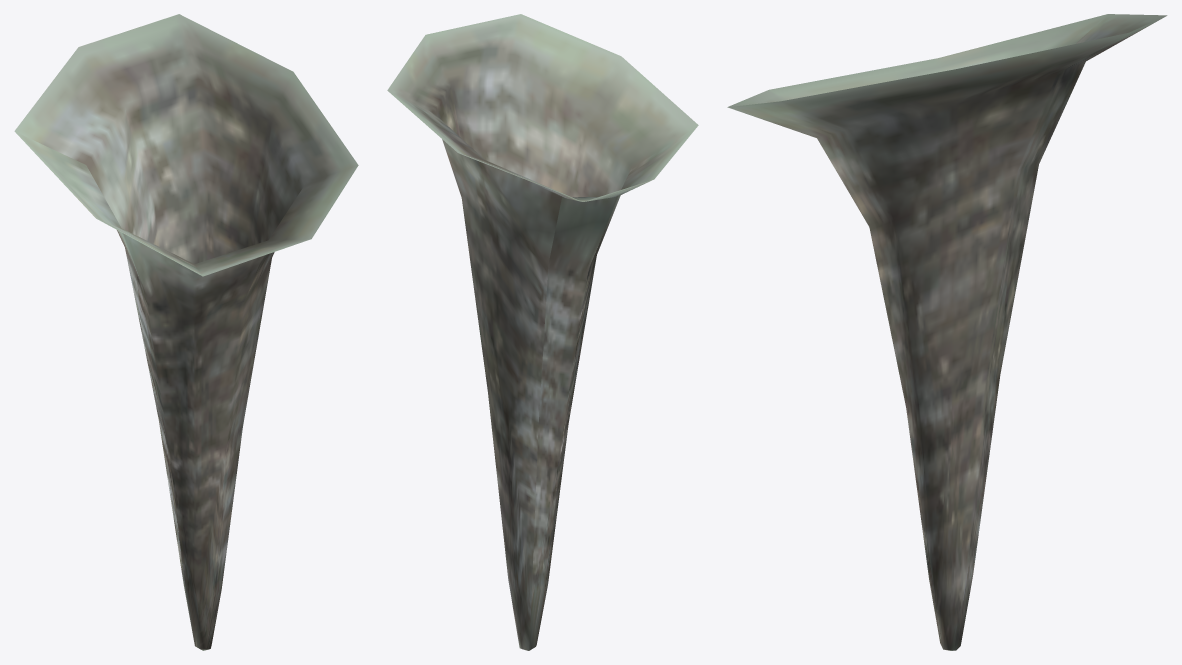
File: TROLLHOLE02_PS-MAINSTALAG34.fbx
The picture shows the model from 3 angles, left to right: view 1: azimuth 30°, elevation 25°; view 2: azimuth 150°, elevation 25°; view 3: azimuth 270°, elevation 25°; orthographic projection. The views are drawn at different scales.
Visible parts, largest first — view 1: TROLLHOLE02_PS-MAINSTALAG34; view 2: TROLLHOLE02_PS-MAINSTALAG34; view 3: TROLLHOLE02_PS-MAINSTALAG34.
Part boxes in pixels (x1,y1,x2,y2): TROLLHOLE02_PS-MAINSTALAG34: (14, 14, 358, 650); TROLLHOLE02_PS-MAINSTALAG34: (387, 14, 698, 650); TROLLHOLE02_PS-MAINSTALAG34: (727, 14, 1167, 650).
Size of the model in its own units: 8974 by 22816 by 14068.
1 material, 1 textured.
